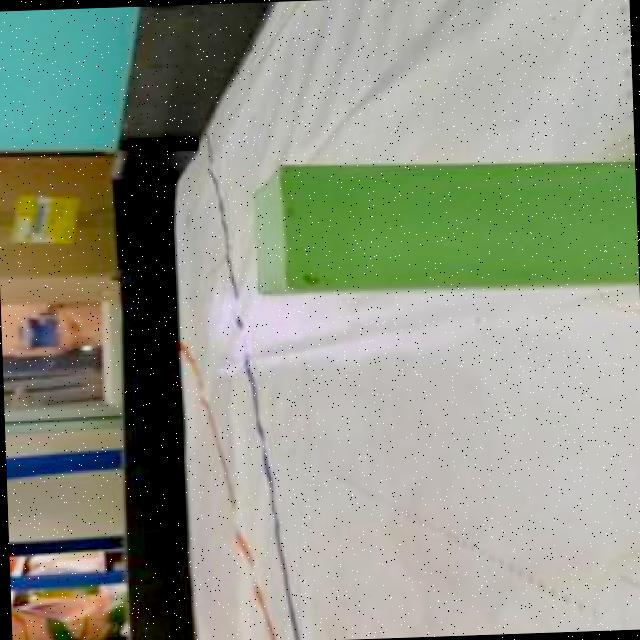greenbox: (243, 150, 640, 302)
